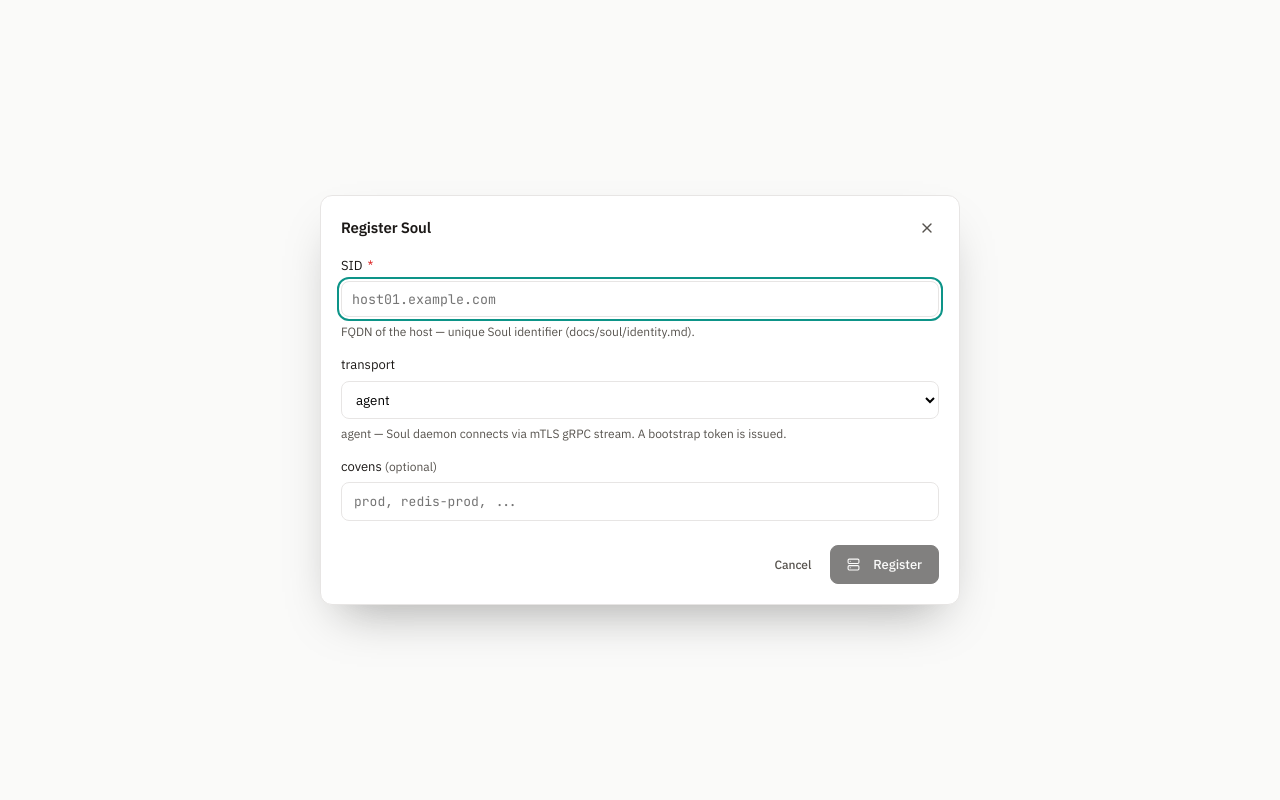
Test: CreateSoulModal › 409 conflict → human-readable error
The width and height of the screenshot is (1280, 800).
Type "existing-host.example.com" into the field named "new host SID" at (640, 299), box [341,281,939,317]
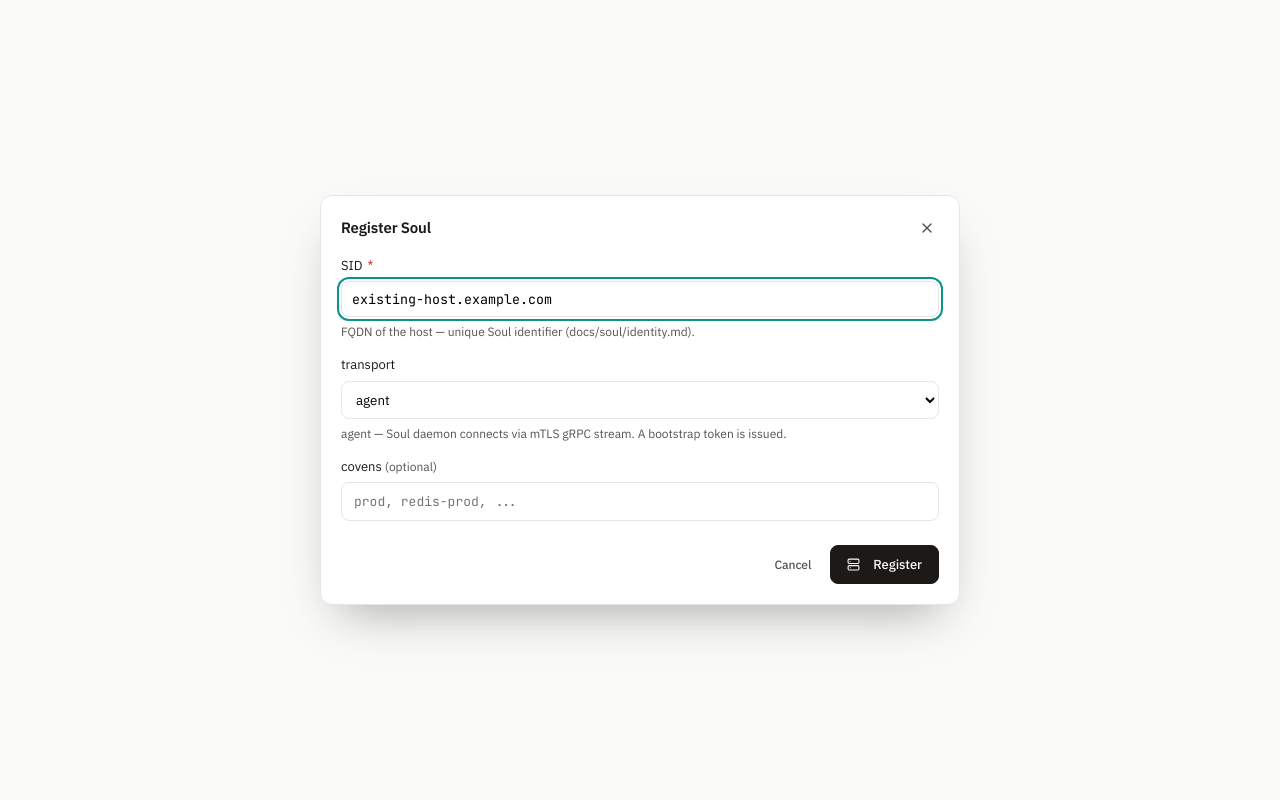
Check: the button "Register" is enabled
Click the button "Register" at (885, 565), box [830,545,939,584]
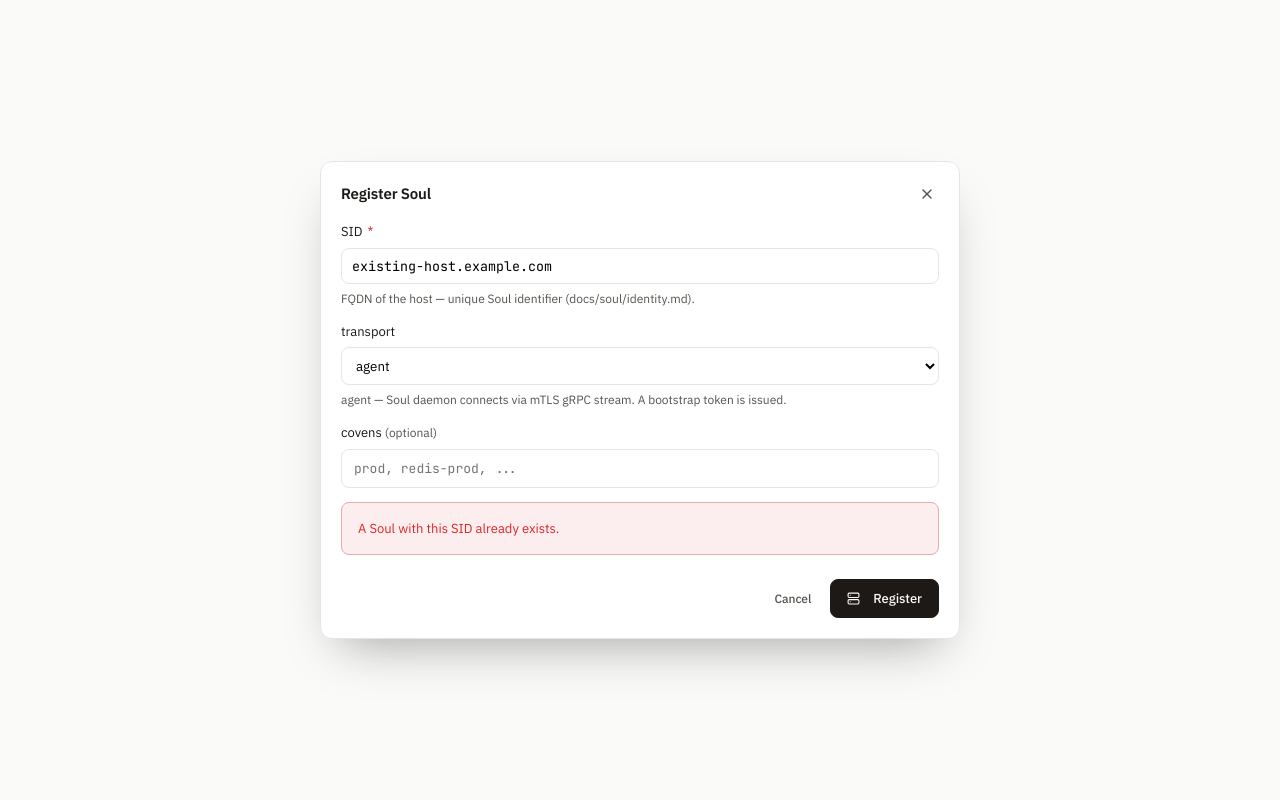
Check: the text "A Soul with this SID already exists." is shown, box [341,502,939,555]
